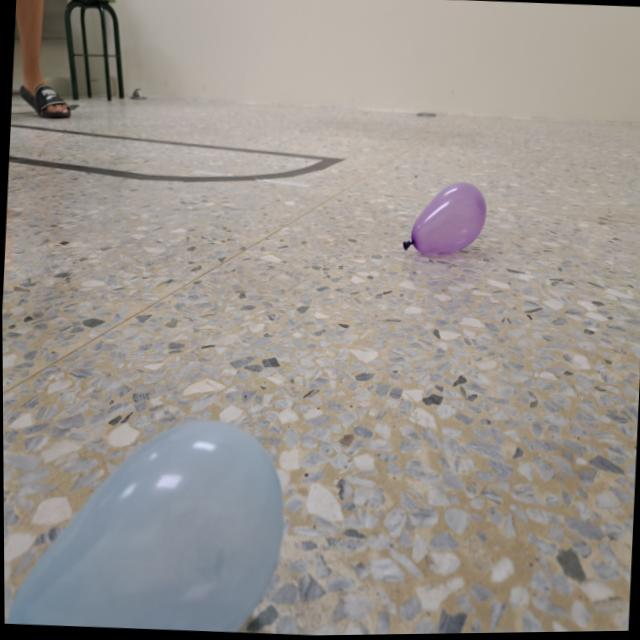other: (2, 409, 289, 638), (400, 180, 489, 266)
